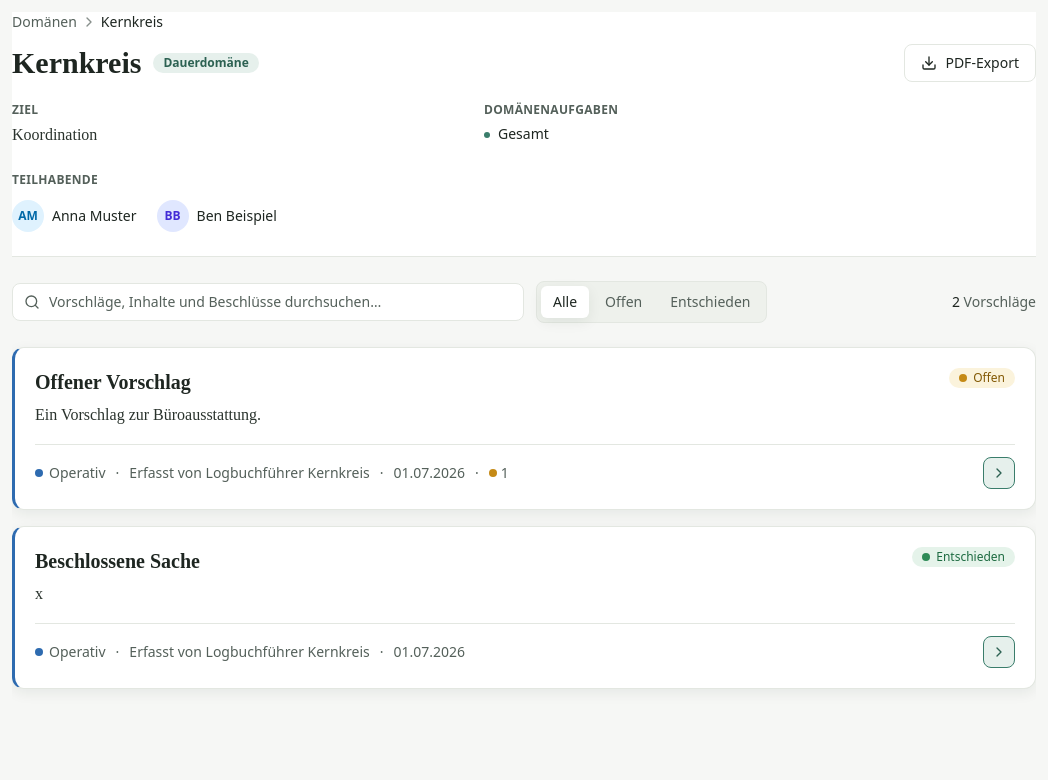
Test case: DomaenenLog › Freitextsuche filtert nach Titel und Beschlusstext
Expected: the heading "Offener Vorschlag" is shown, [35,368,191,396]
In the search field with placeholder "Vorschläge, Inhalte und Beschlüsse durchsuchen…": (268, 302) [12,283,524,321], type "Wortlaut"
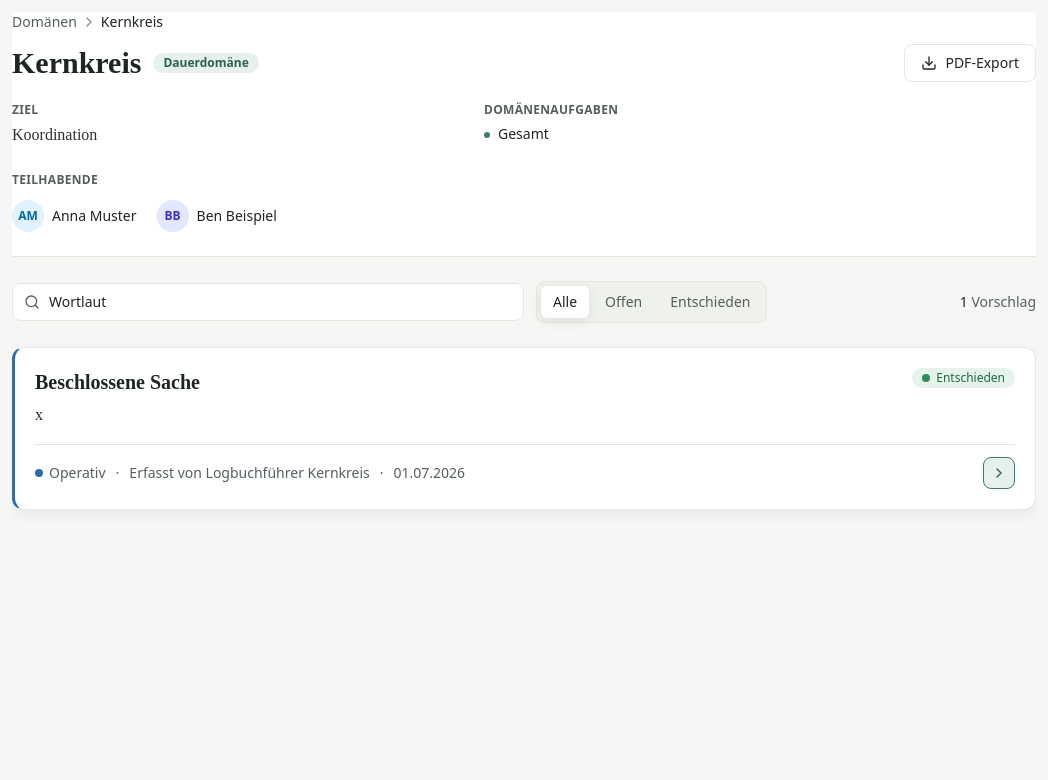
Expected: the heading "Beschlossene Sache" is shown, [35,368,200,396]
Result: the button "Offener Vorschlag" is gone
